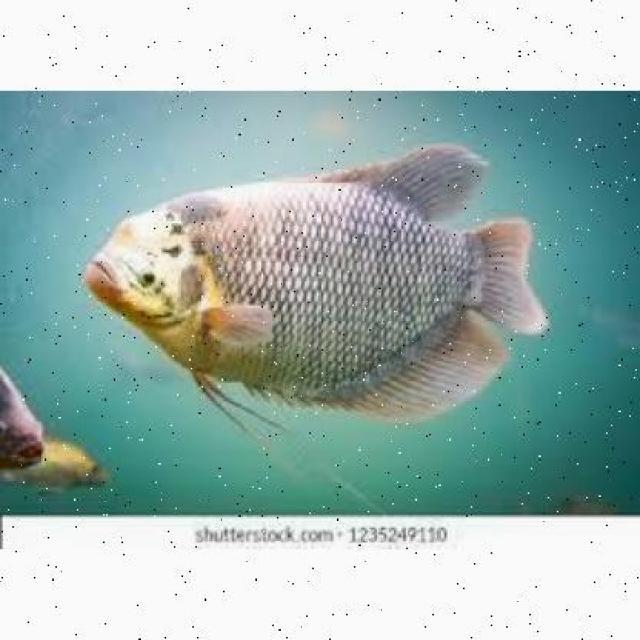gurame: (84, 146, 534, 429)
